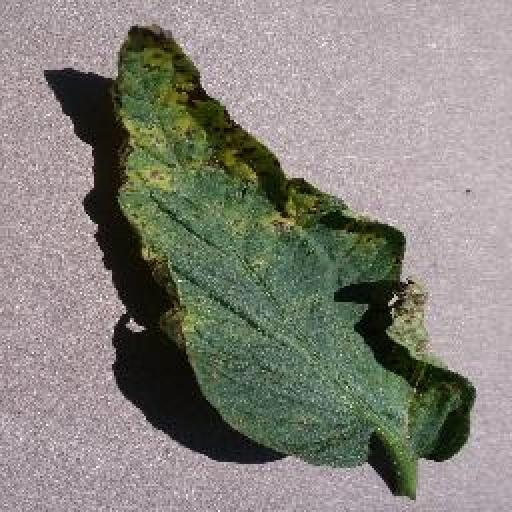disease_tomato: (114, 21, 478, 471)
